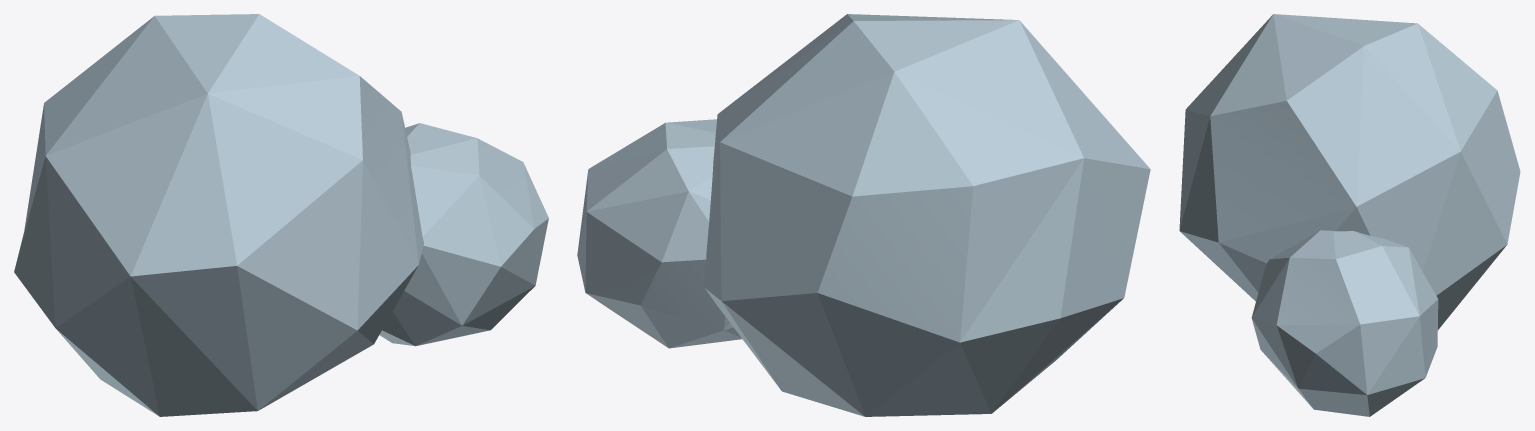
The model's file is small_cloud_32.fbx.
The picture shows the model from 3 angles, left to right: view 1: azimuth 30°, elevation 25°; view 2: azimuth 150°, elevation 25°; view 3: azimuth 270°, elevation 25°; orthographic projection. The views are drawn at different scales.
Visible parts, largest first — view 1: cloud_2; view 2: cloud_2; view 3: cloud_2.
Boxes of the visible parts, box(x1,y1,x2,y2) form: cloud_2: box(14, 14, 548, 416); cloud_2: box(577, 14, 1150, 416); cloud_2: box(1179, 14, 1520, 416).
Size of the model in its own units: 285 by 200 by 203.
